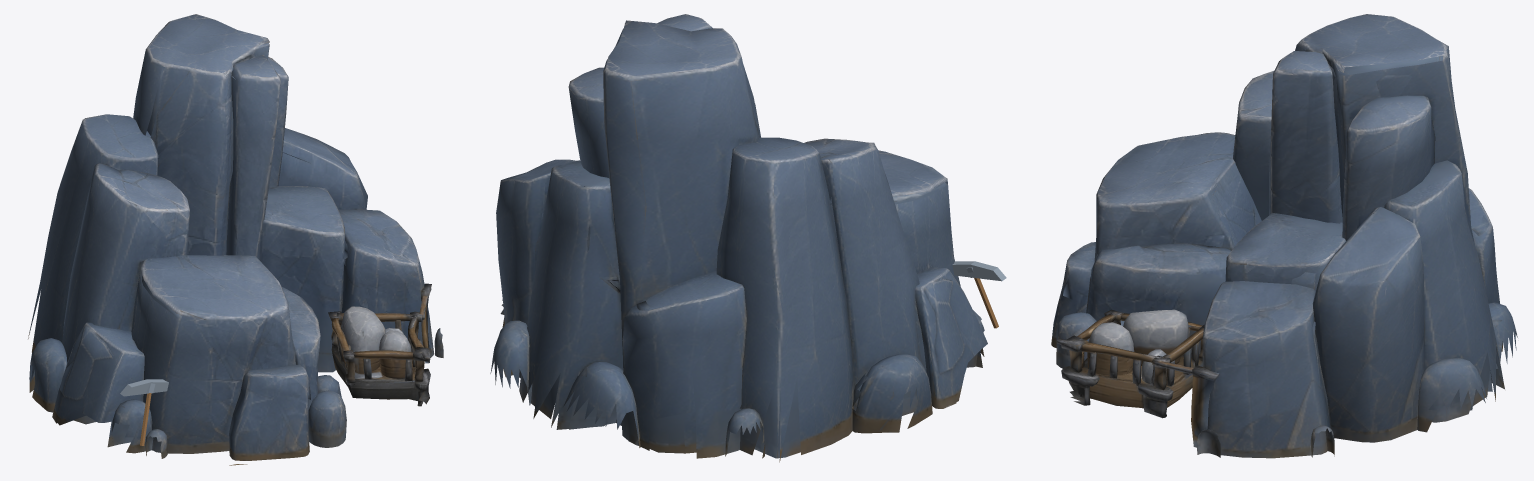
Rendered from mina-piedra.glb.
3 renders of one model, left to right at view 1: azimuth 30°, elevation 25°; view 2: azimuth 150°, elevation 25°; view 3: azimuth 270°, elevation 25°, orthographic. The views are drawn at different scales.
Parts seen in each view (by area): view 1: mina-stone, mina-stone-details; view 2: mina-stone, mina-stone-details; view 3: mina-stone.
Part boxes in pixels (x1,y1,x2,y2): mina-stone: (28,14,443,465); mina-stone-details: (120,379,168,445); mina-stone: (490,14,987,462); mina-stone-details: (952,261,1006,328); mina-stone: (1051,14,1517,458).
Size of the model in its own units: 0.8997 by 0.6554 by 0.8747.
3 materials, 1 textured.
